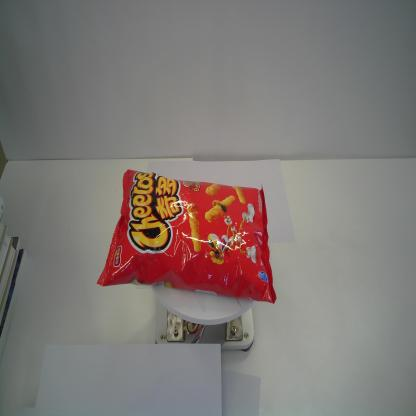Puffed Food: (94, 166, 278, 308)
